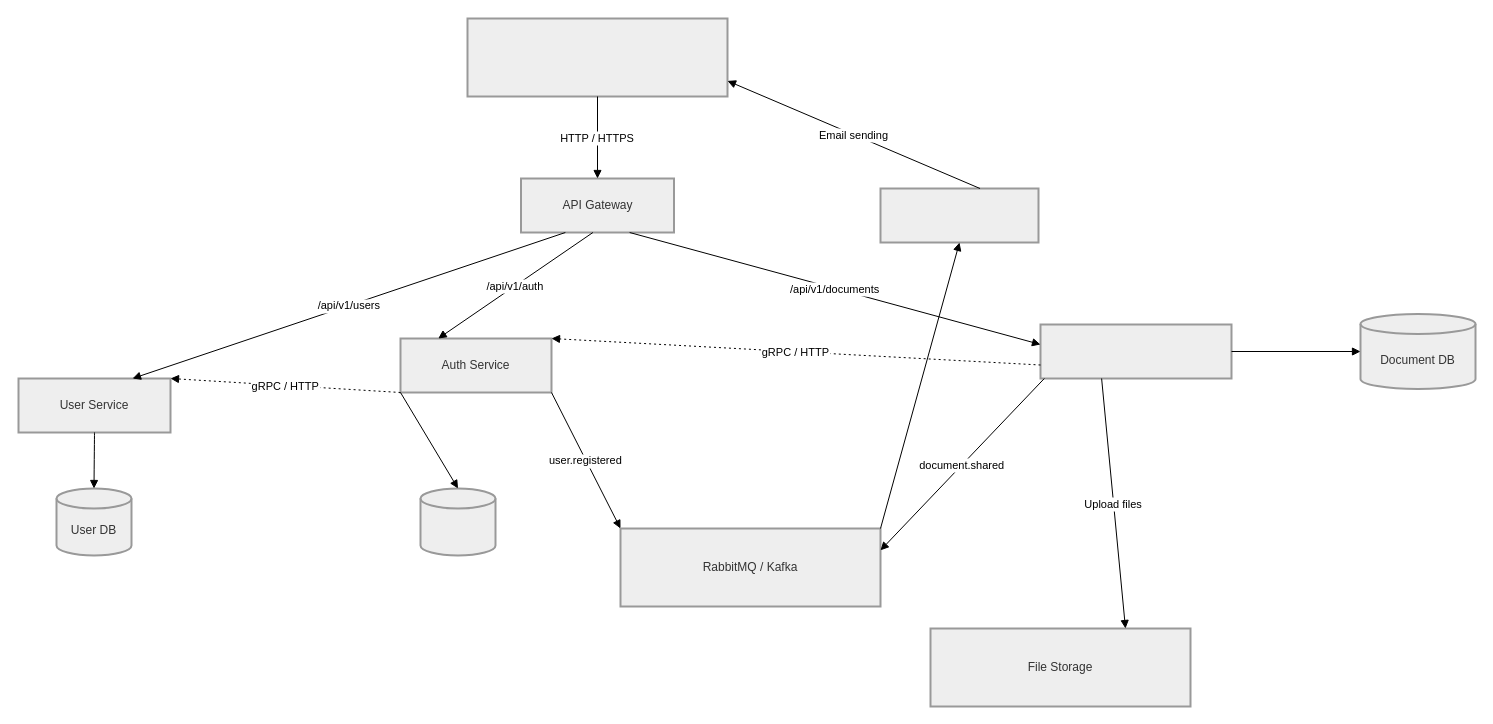
This 1493x724 diagram has some shape labels left out. Here are the shapes that lost their labels. From the top down, the centre of each, then its label:
At point (597, 57): "Client".
At point (959, 215): "Email Service".
At point (1135, 351): "Document Service".
At point (457, 521): "Auth DB".
